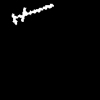double_crochet: (12, 4, 53, 23)
